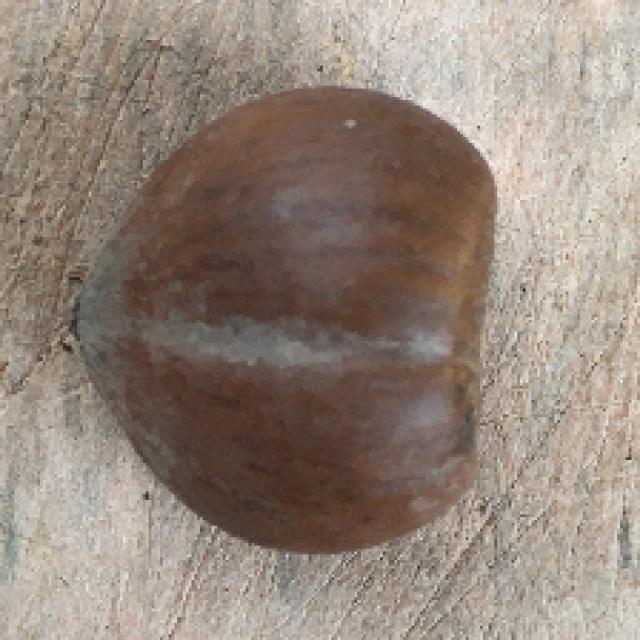damagedHazelnut: (64, 83, 495, 554)
